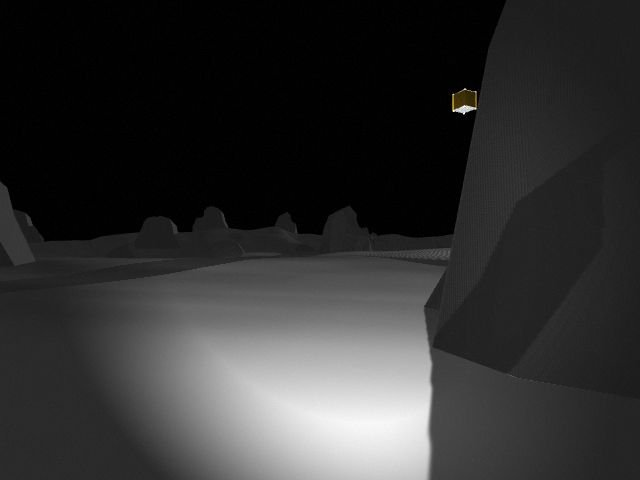cubesat: (444, 86, 480, 116)
